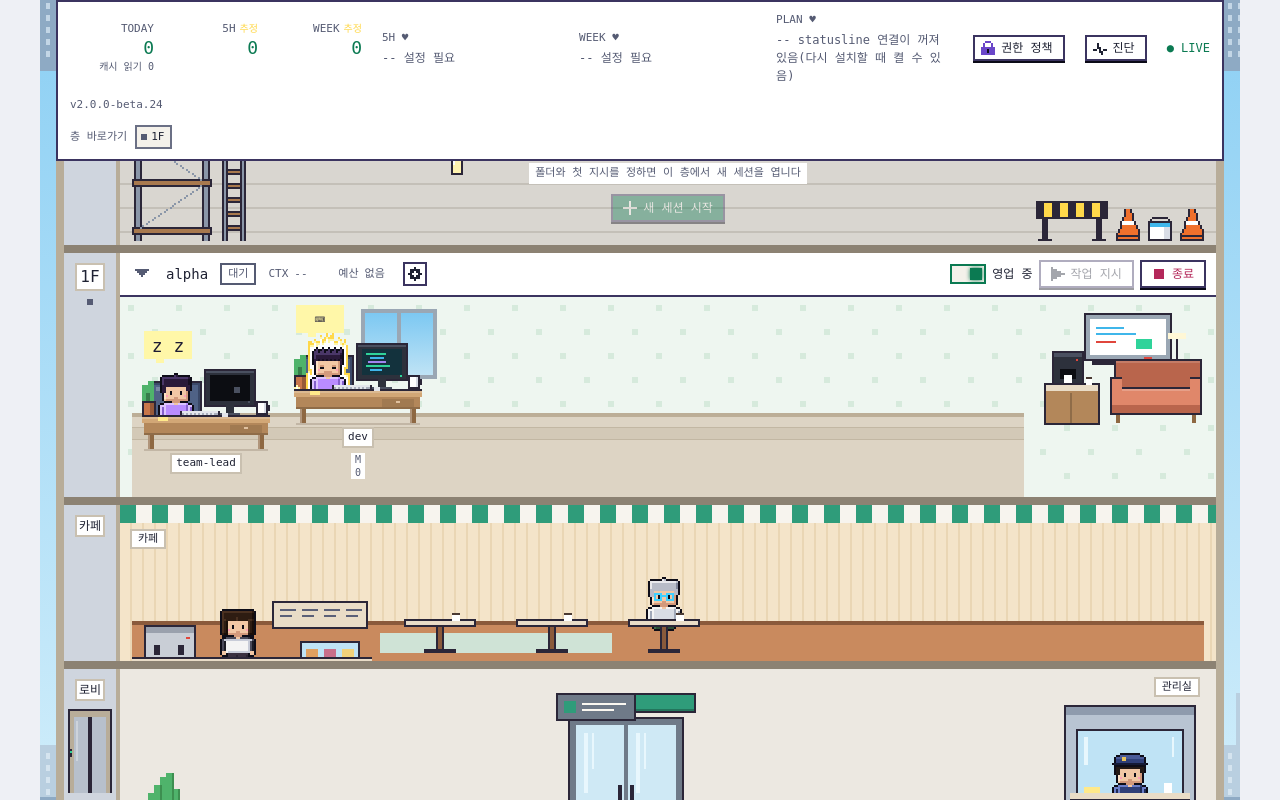
Test: ActivityBubble (디자인 7.5) › 보이는 중에 다른 캐릭터로 옮기면 바로 바뀐다
The image size is (1280, 800).
(page scrolled)
Hover over the button with test id "desk-dev".
mouse_move(358, 401)  # box 292,305 -> 424,496
Wait 150 ms
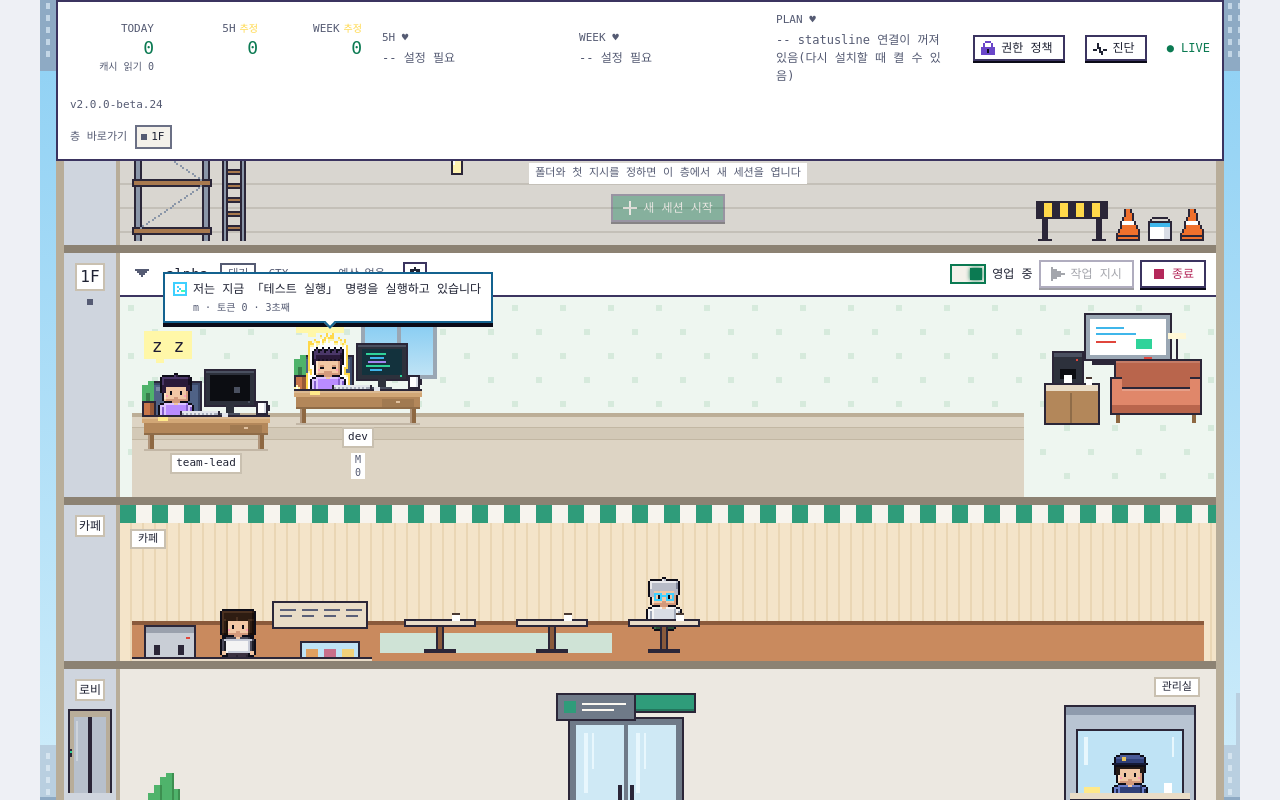
Hover over the button with test id "desk-team-lead".
mouse_move(206, 414)  # box 140,331 -> 272,496
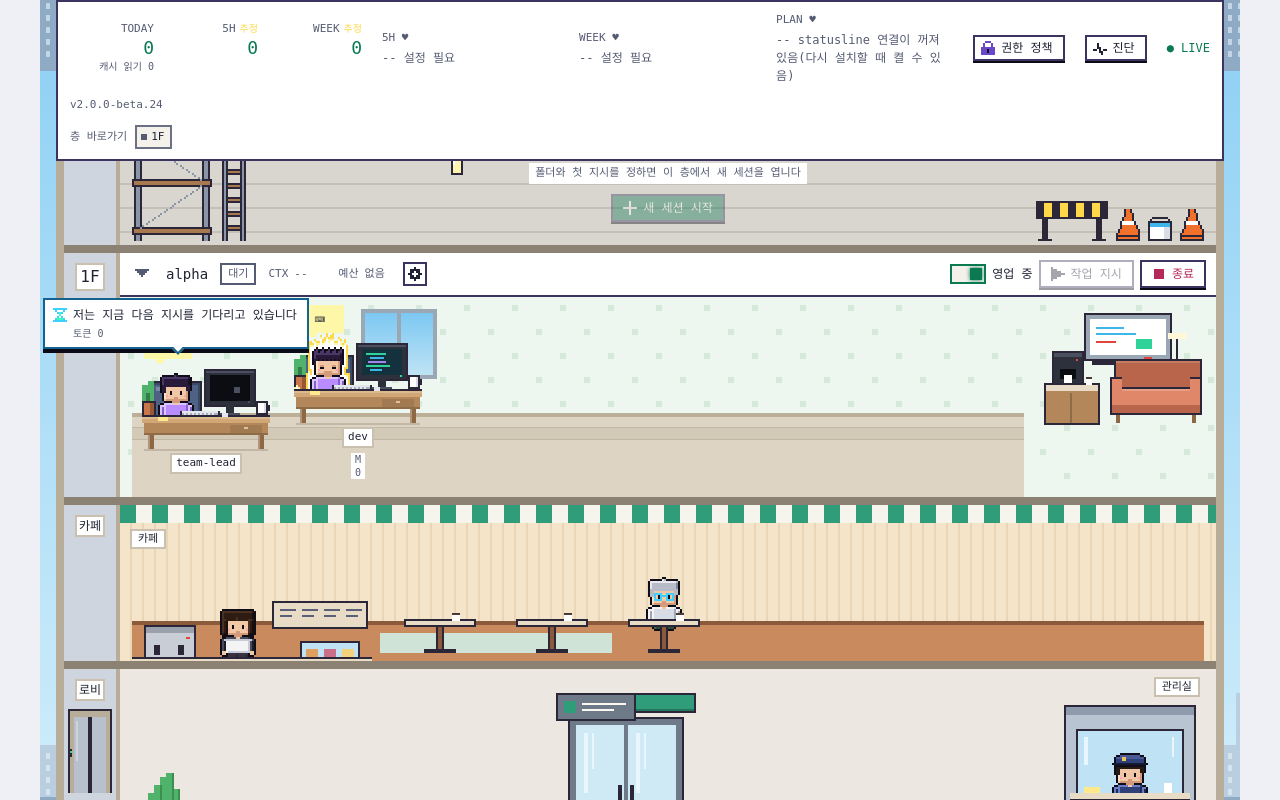
Result: the text "저는 지금 다음 지시를 기다리고 있습니다" is shown at 73,306 -> 297,324
